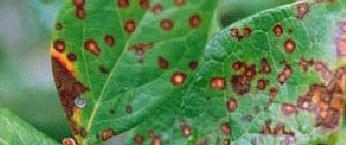Tomato Septoria leaf spot: (107, 0, 346, 145), (54, 0, 234, 145)
